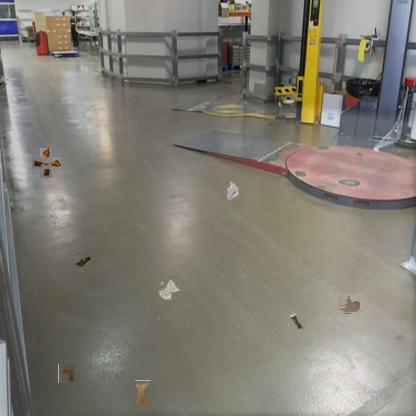dirty: (156, 277, 182, 303), (35, 152, 57, 174), (223, 179, 240, 201), (58, 363, 75, 383), (74, 254, 92, 270), (288, 314, 305, 330)
liquid: (339, 292, 359, 314), (136, 380, 152, 405)
